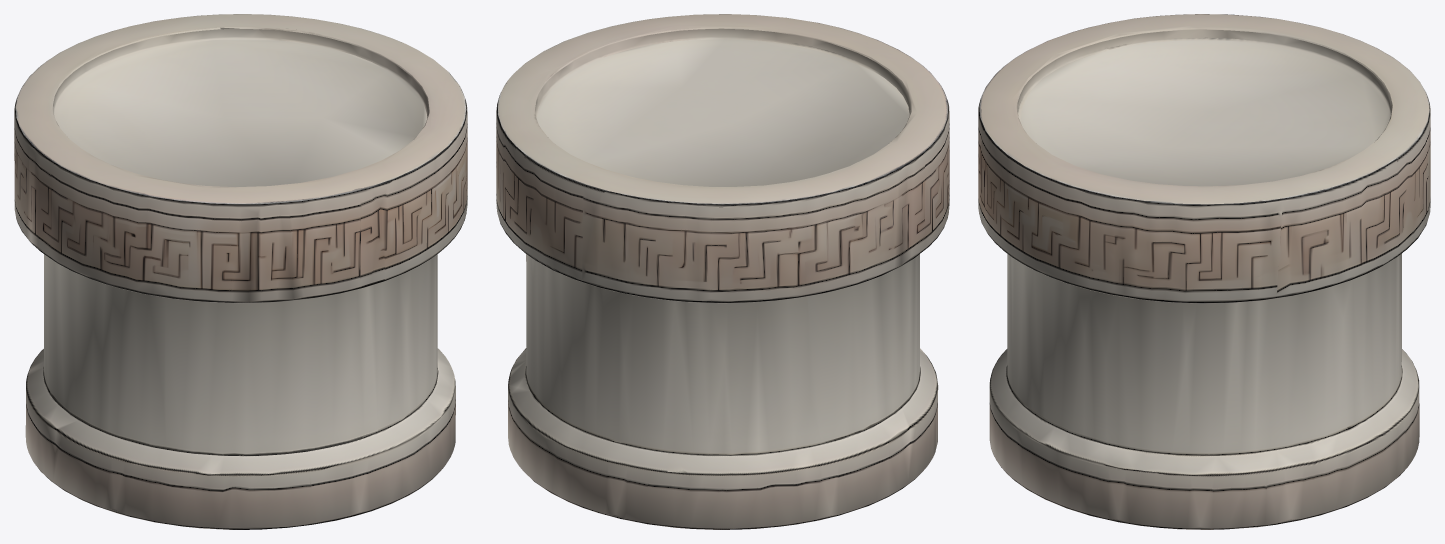
The model's file is pedestal.glb.
3 renders of one model, left to right at view 1: azimuth 30°, elevation 25°; view 2: azimuth 150°, elevation 25°; view 3: azimuth 270°, elevation 25°, orthographic.
Parts seen in each view (by area): view 1: pedestal; view 2: pedestal; view 3: pedestal.
Boxes of the visible parts, x1,y1,x2,y2 form: pedestal: (14,14,467,529); pedestal: (496,14,949,529); pedestal: (978,14,1430,529).
Size of the model in its own units: 1.34 by 1.1 by 1.34.
1 material, 1 textured.
